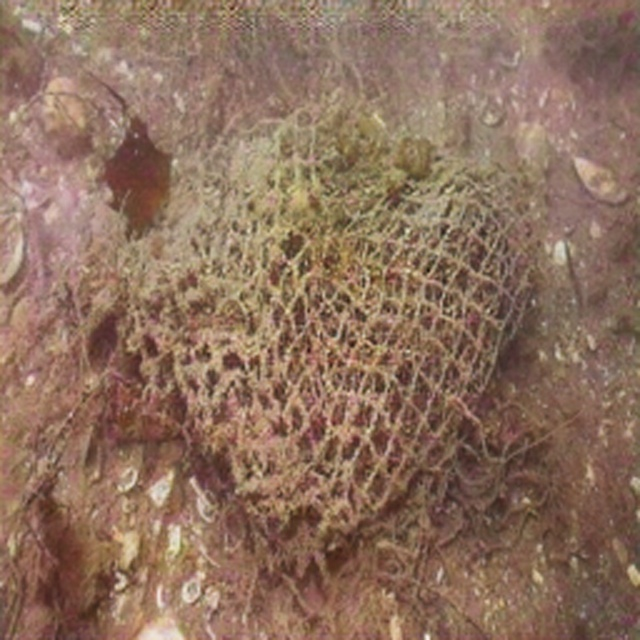mine: (136, 102, 539, 558)
